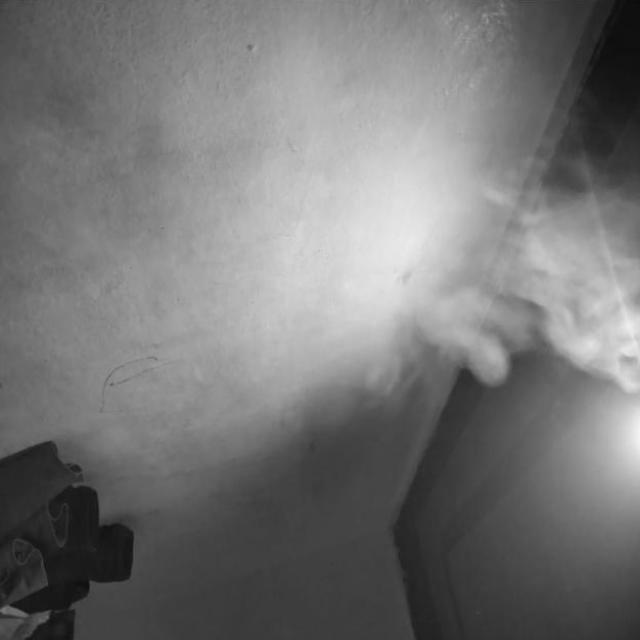fire: (284, 166, 640, 400)
